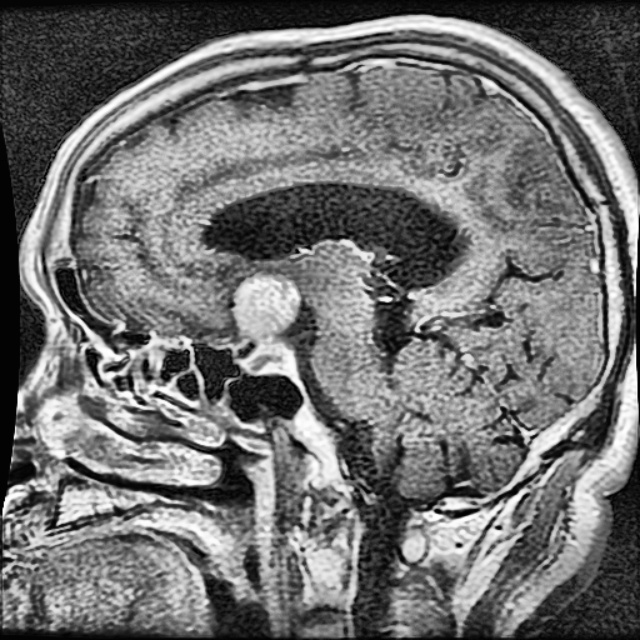Pituitary: (233, 270, 300, 338)
